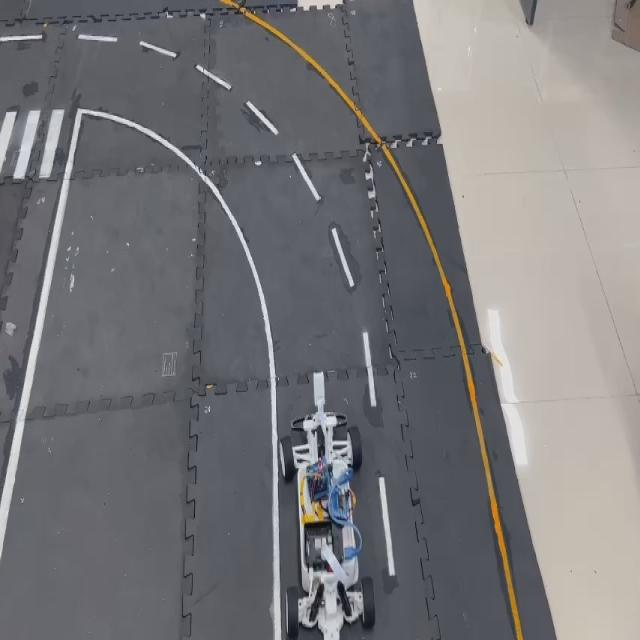SiCo-CAR: (278, 372, 376, 637)
